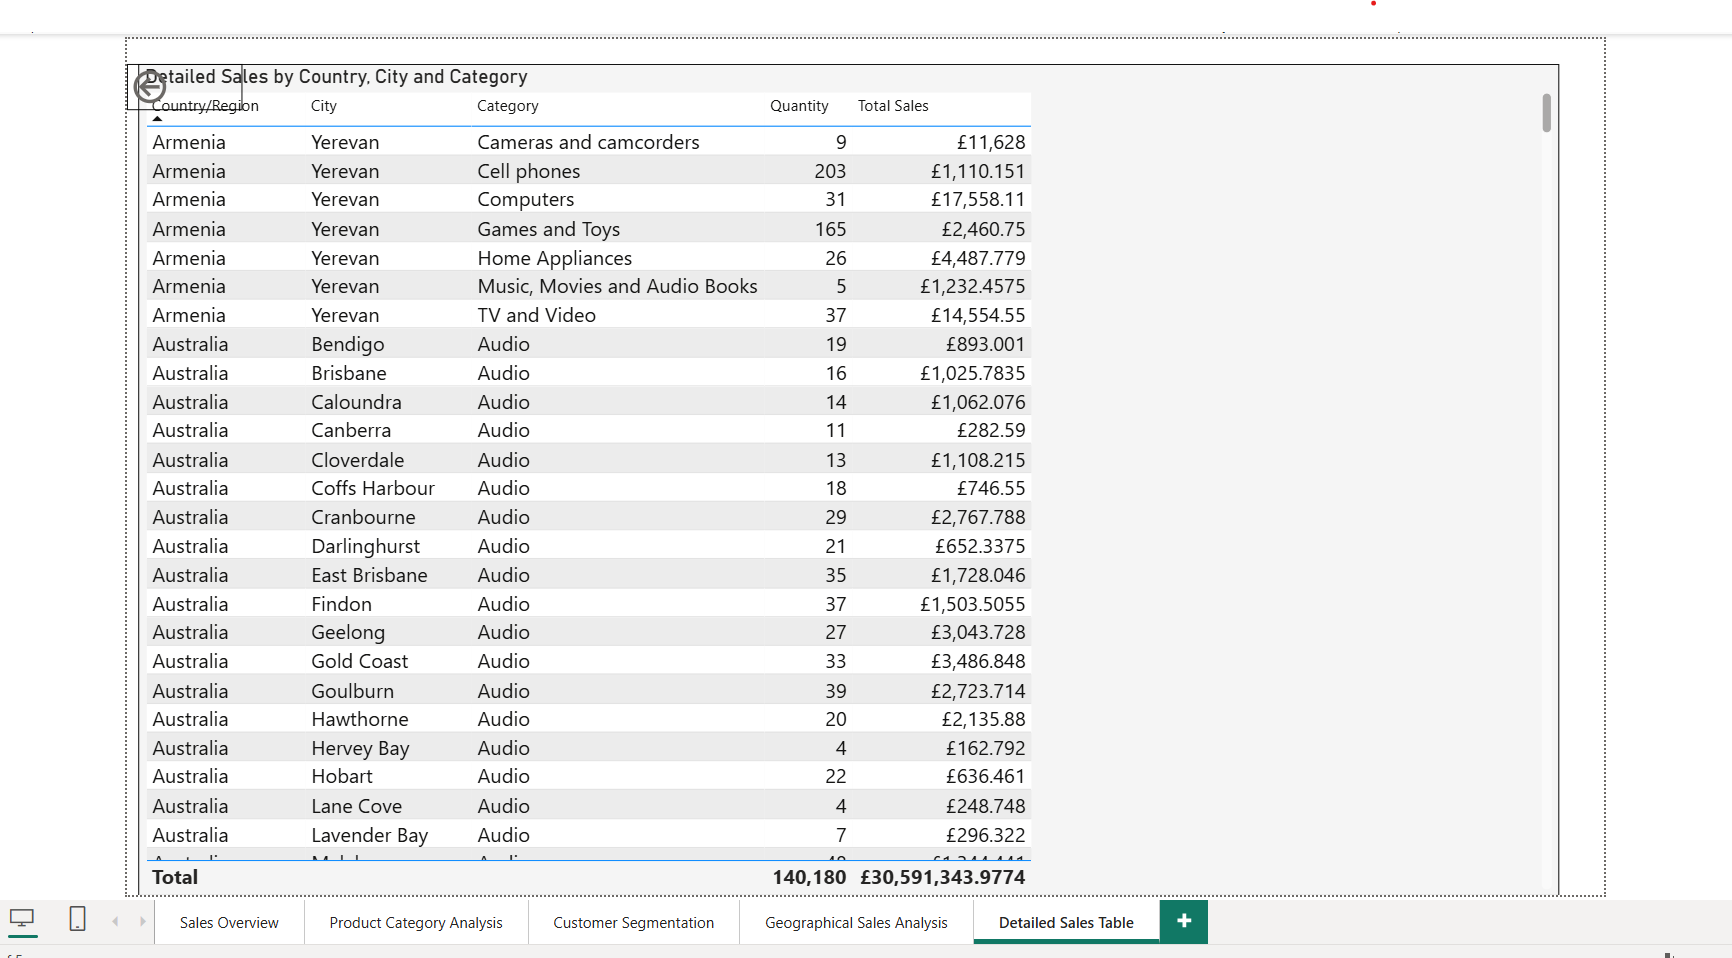

This screenshot's page, from the dashboard's own definition file:
{"tool":"powerbi","page":{"name":"Detailed Sales Table","canvas":[1280,720],"ordinal":4},"visuals":[{"type":"tableEx","title":"Detailed Sales by Country, City and Category","fields":{"Values":["Customer.CountryRegion","Customer.City","Product.Category","Sum(Sales.Quantity)","01.Measures.Total Sales"]},"box":[9.6,0,1230.9,721],"z":0},{"type":"actionButton","box":[0,0,100,40],"z":1000}]}

Visuals, with their boxes on the page's 1280x720 design canvas (x1, y1, x2, y2). These are canvas units, not pixel positions in the 1732x958 screenshot, which may show the page scaled, cropped or inside an application window:
"Detailed Sales by Country, City and Category" tableEx: pyautogui.locateOnScreen(10, 0, 1240, 721)
actionButton: pyautogui.locateOnScreen(0, 0, 100, 40)
